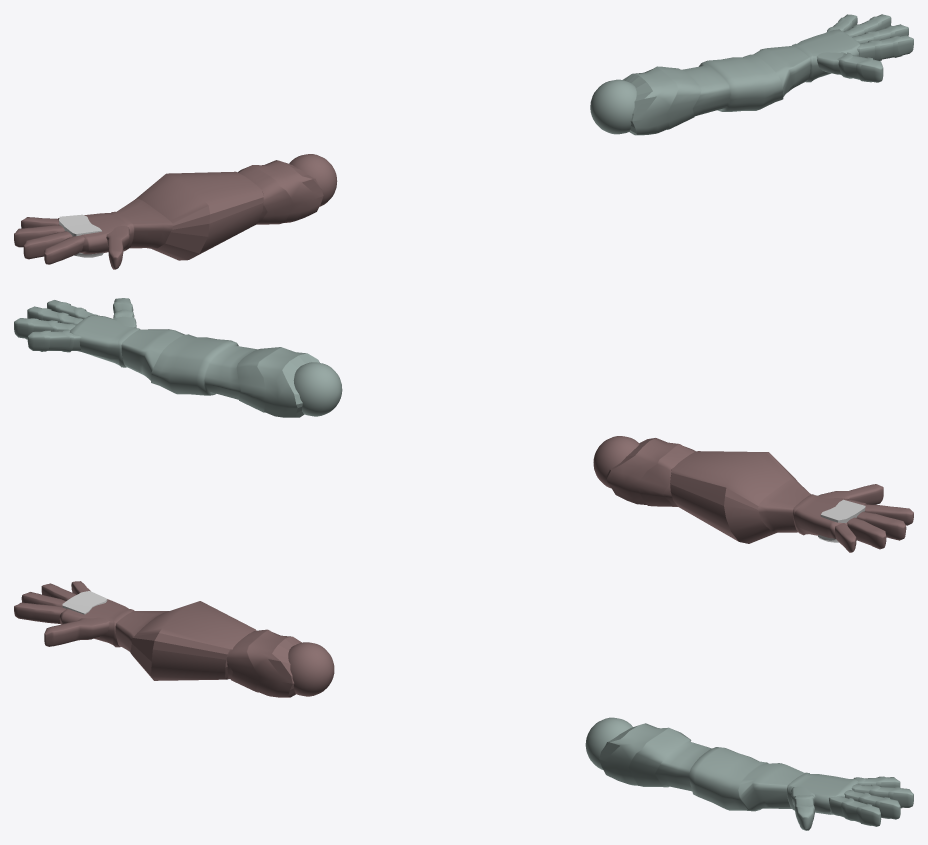
File: Arms_Static.fbx
The picture shows the model from 3 angles, top to bottom: view 1: azimuth 30°, elevation 25°; view 2: azimuth 150°, elevation 25°; view 3: azimuth 330°, elevation 25°; orthographic projection.
Visible parts, largest first — view 1: polySurface84; view 2: polySurface84; view 3: polySurface84.
Part boxes in pixels (<box>): polySurface84: <box>14,14,913,269</box>; polySurface84: <box>14,298,913,552</box>; polySurface84: <box>14,581,913,830</box>.
Bounding box in the file's own units: 30.66 × 2.29 × 3.82.
